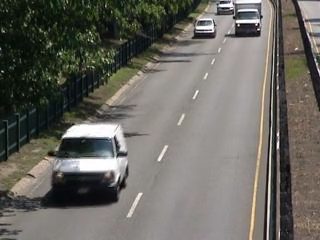car: (191, 18, 220, 41), (215, 1, 235, 18)
truck: (42, 120, 134, 207), (233, 1, 264, 37)
